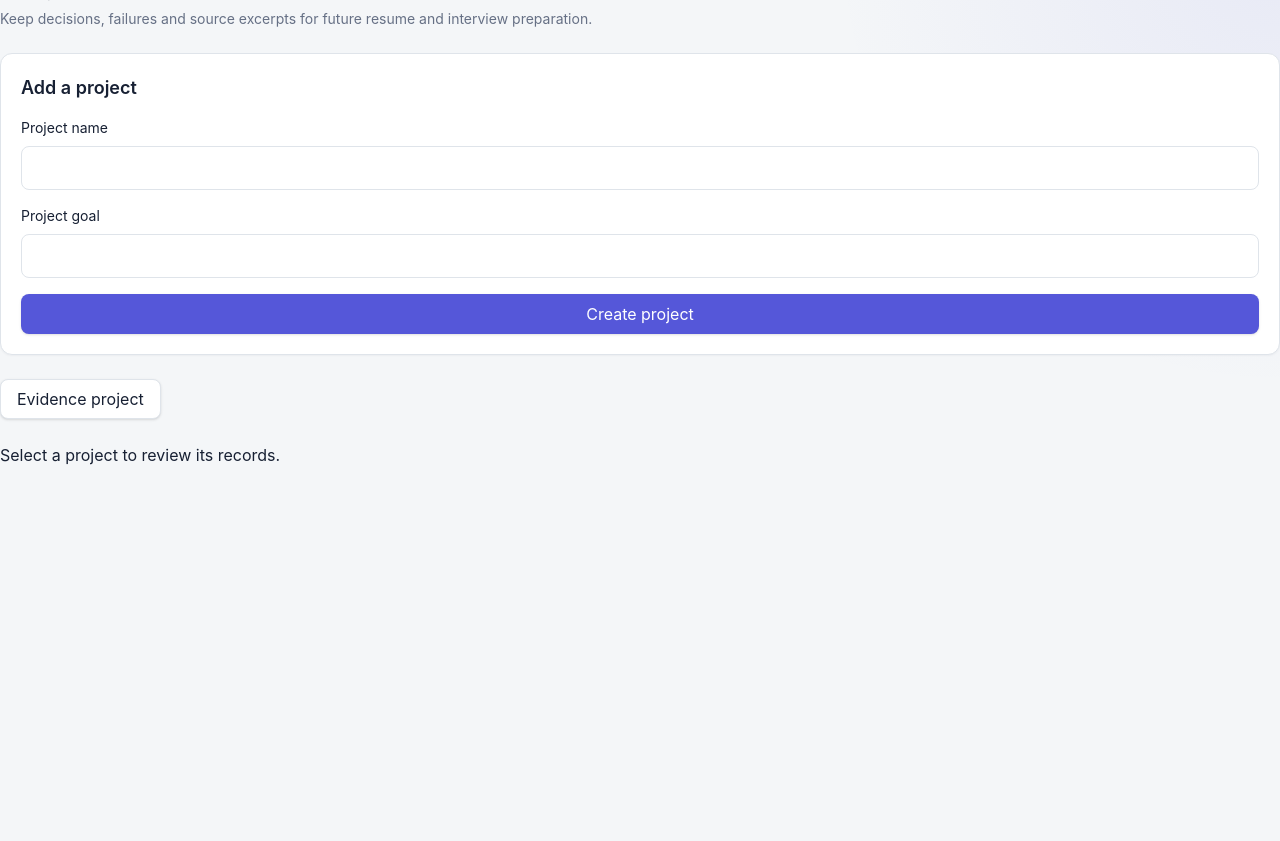
Scenario: ProjectsManager › requires personal contribution and sends displayed version when confirming
Click the button "Evidence project" at (80, 399), box [0,379,161,419]
(page scrolled)
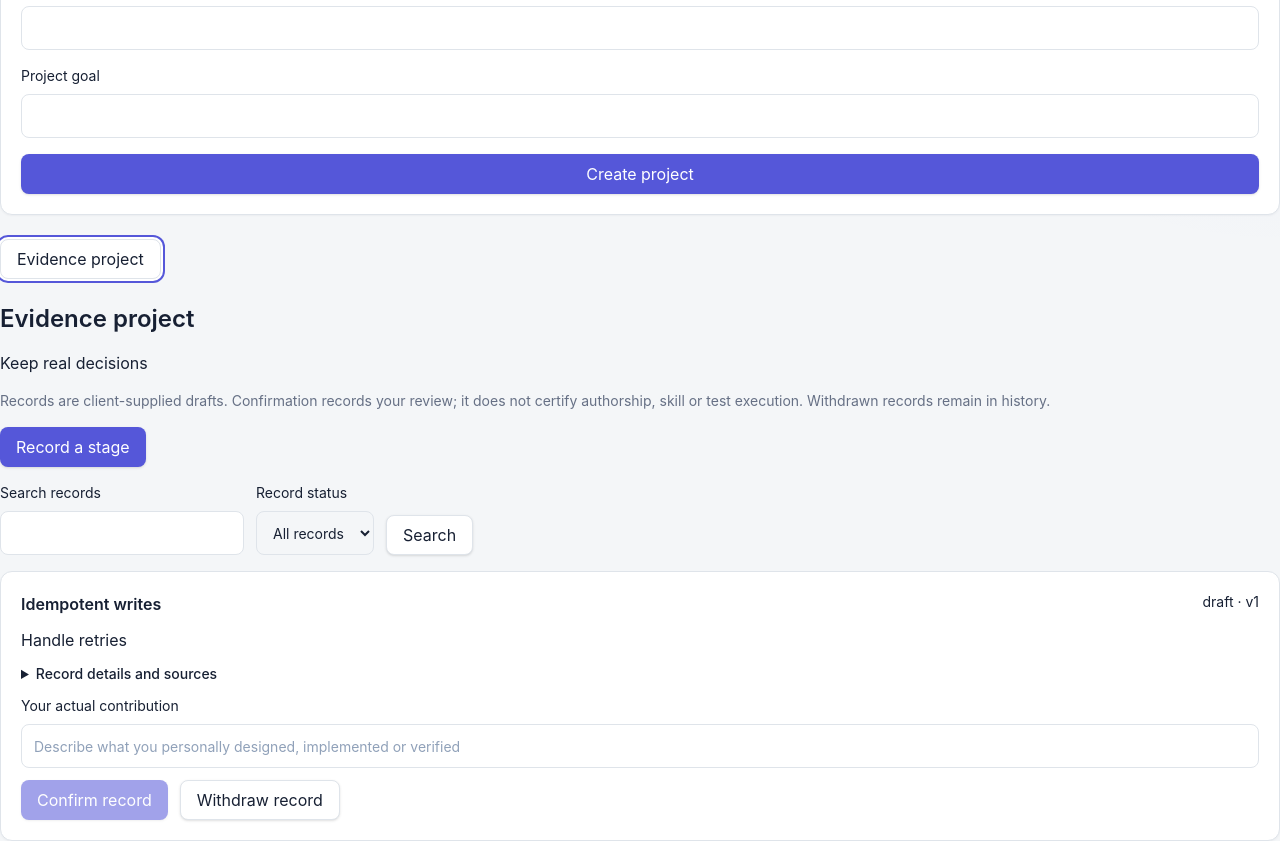
Now the button "Confirm record" is disabled, box [21,780,168,820]
Type "I designed the constraint." into the field labelled "Your actual contribution" at (640, 746), box [21,724,1259,768]
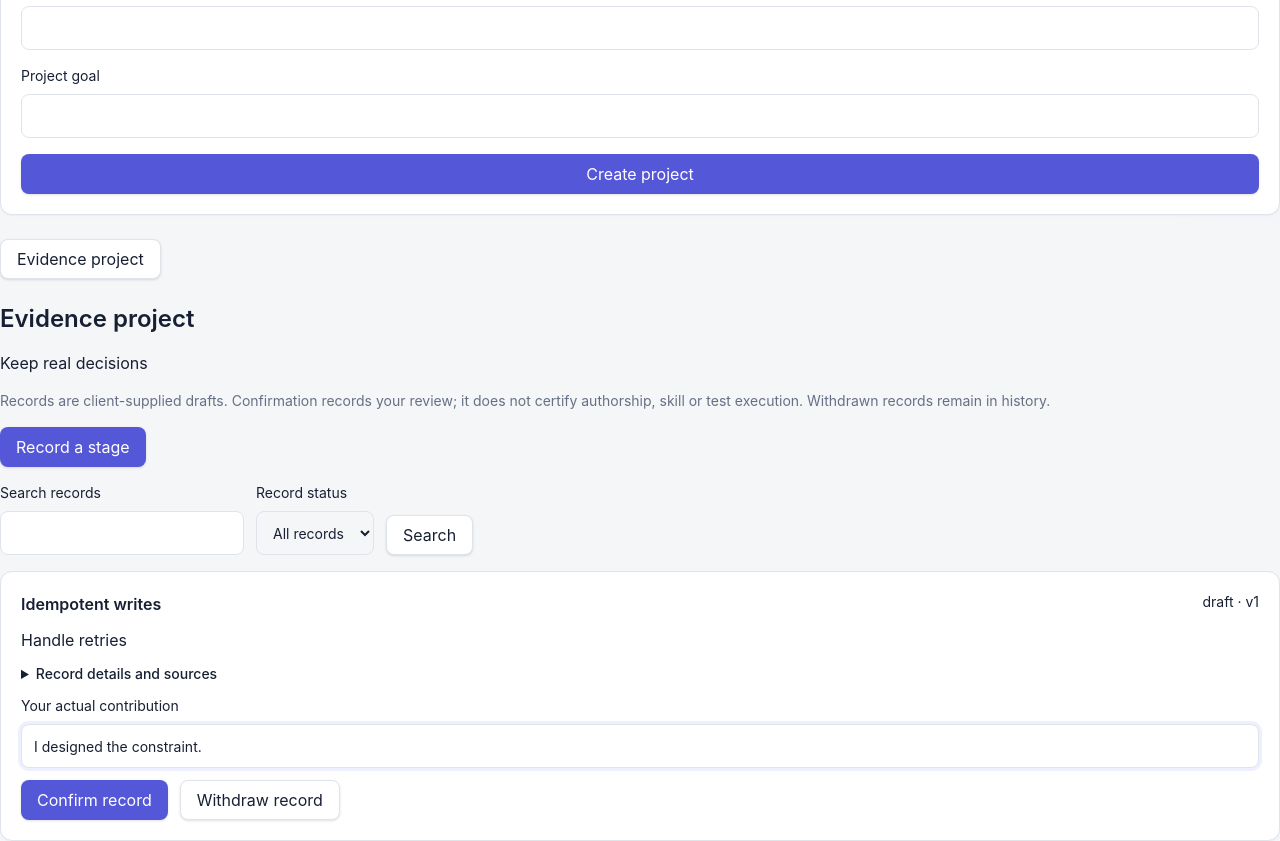
Click the button "Confirm record" at (94, 800), box [21,780,168,820]
(page scrolled)
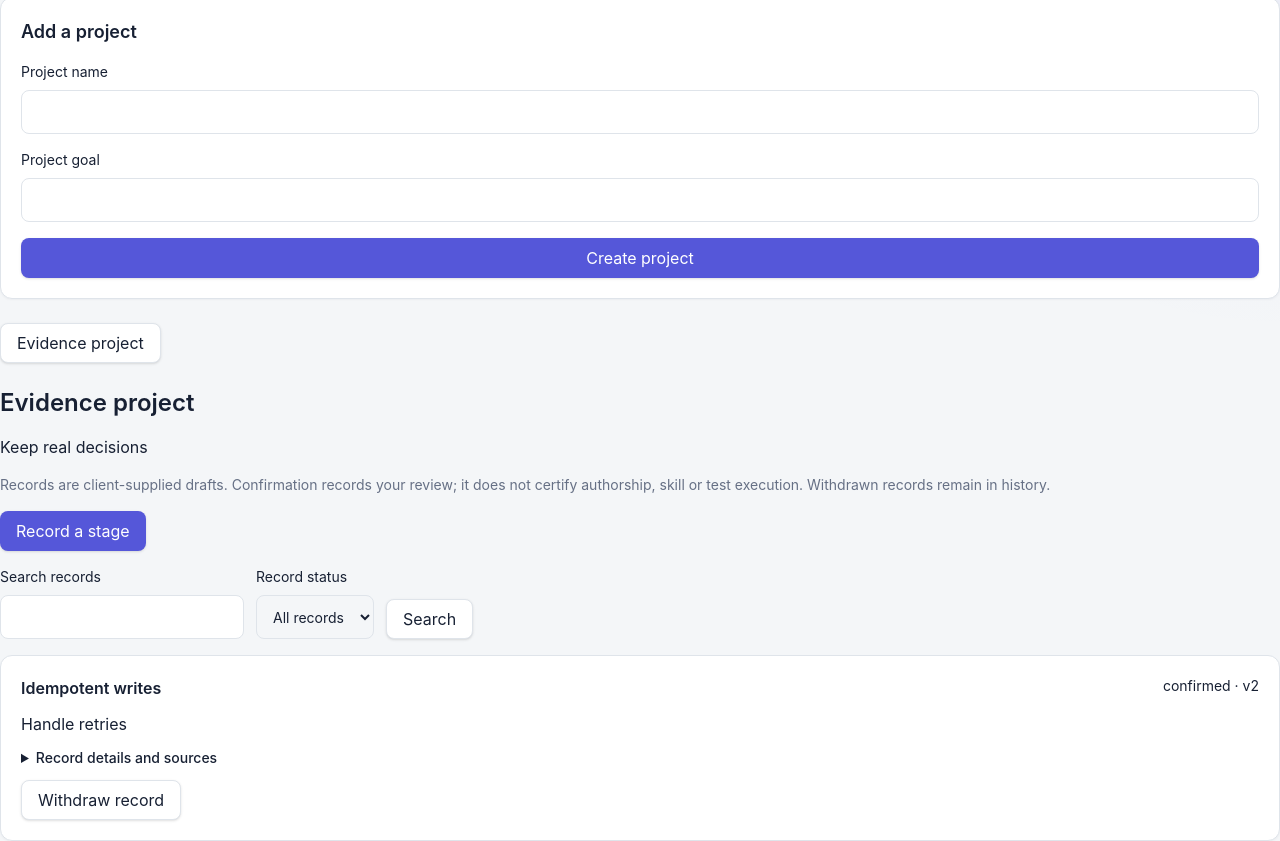
Now the text "confirmed · v2" is shown, box [1163,676,1259,700]
